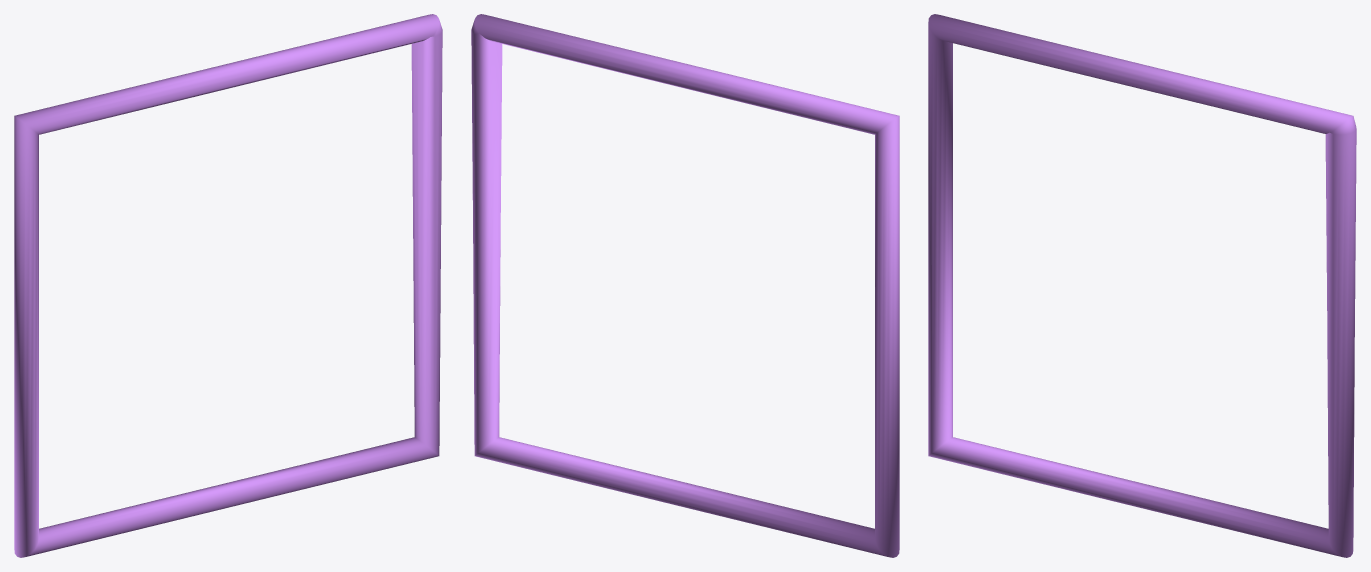
The model's file is frame-CRzz71qS.glb.
3 views of the same model, side by side, from view 1: azimuth 30°, elevation 25°; view 2: azimuth 150°, elevation 25°; view 3: azimuth 330°, elevation 25° (orthographic).
Parts seen in each view (by area): view 1: R3D_frame_Body_0; view 2: R3D_frame_Body_0; view 3: R3D_frame_Body_0.
Boxes of the visible parts, x1=… form: R3D_frame_Body_0: x1=14, y1=14, x2=442, y2=557; R3D_frame_Body_0: x1=471, y1=14, x2=899, y2=557; R3D_frame_Body_0: x1=928, y1=14, x2=1356, y2=557.
Size of the model in its own units: 3.74 by 3.71 by 0.24.
